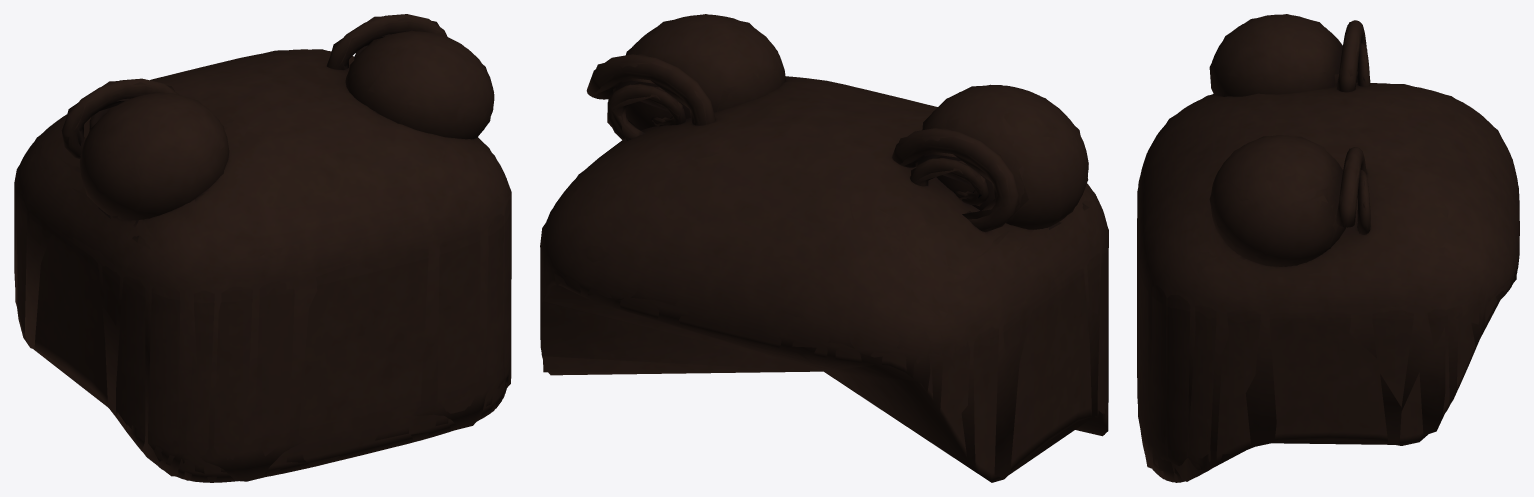
File: buns.glb
The picture shows the model from 3 angles, left to right: view 1: azimuth 30°, elevation 25°; view 2: azimuth 150°, elevation 25°; view 3: azimuth 270°, elevation 25°; orthographic projection. The views are drawn at different scales.
Parts seen in each view (by area): view 1: near, mid, far; view 2: near, mid, far; view 3: near, far, mid.
Part boxes in pixels (bbox=[...]): near: bbox=[14, 14, 511, 482]; mid: bbox=[14, 15, 511, 482]; far: bbox=[14, 16, 511, 481]; near: bbox=[540, 14, 1107, 482]; mid: bbox=[540, 14, 1107, 480]; far: bbox=[540, 14, 1108, 478]; near: bbox=[1137, 14, 1519, 482]; far: bbox=[1137, 14, 1518, 481]; mid: bbox=[1137, 14, 1519, 482].
Size of the model in its own units: 1.08 by 0.8704 by 0.92.
Materials: 1 (1 with a texture image).
